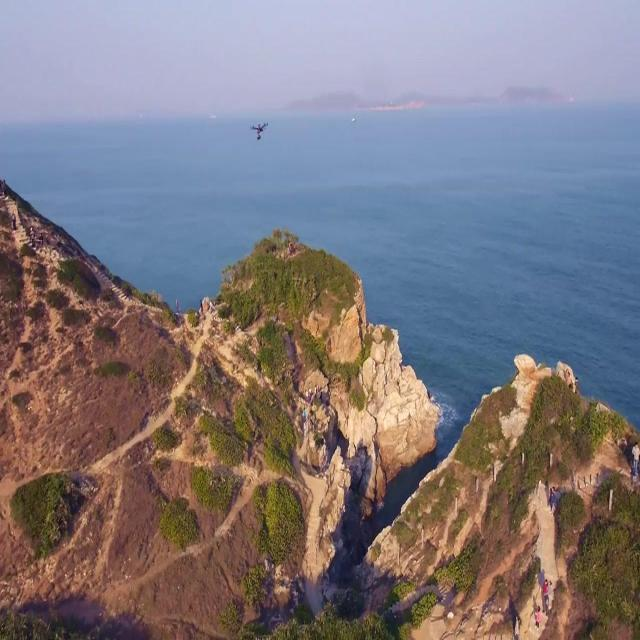drone: (248, 118, 270, 144)
